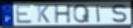E: (15, 4, 34, 24)
H: (54, 4, 72, 24)
I: (96, 4, 101, 23)
K: (37, 5, 51, 24)
Q: (73, 4, 91, 24)
S: (111, 4, 128, 24)
